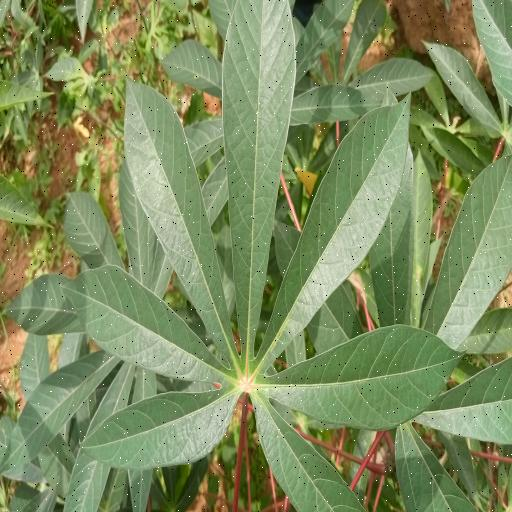Cassava_Healthy: (74, 0, 469, 512)
